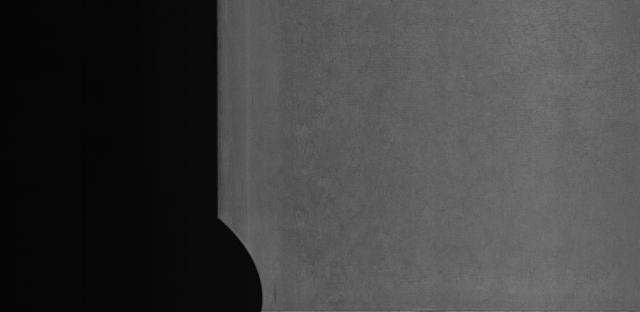crescent_gap: (196, 210, 276, 312)
